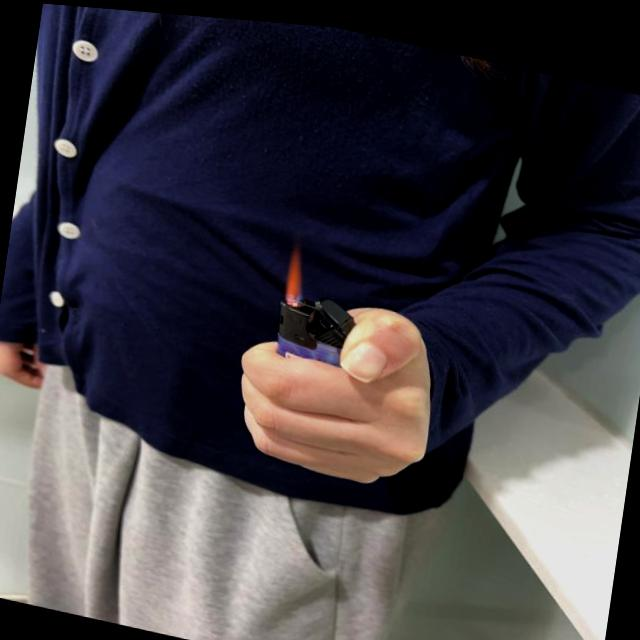helmet: (282, 233, 310, 303)
